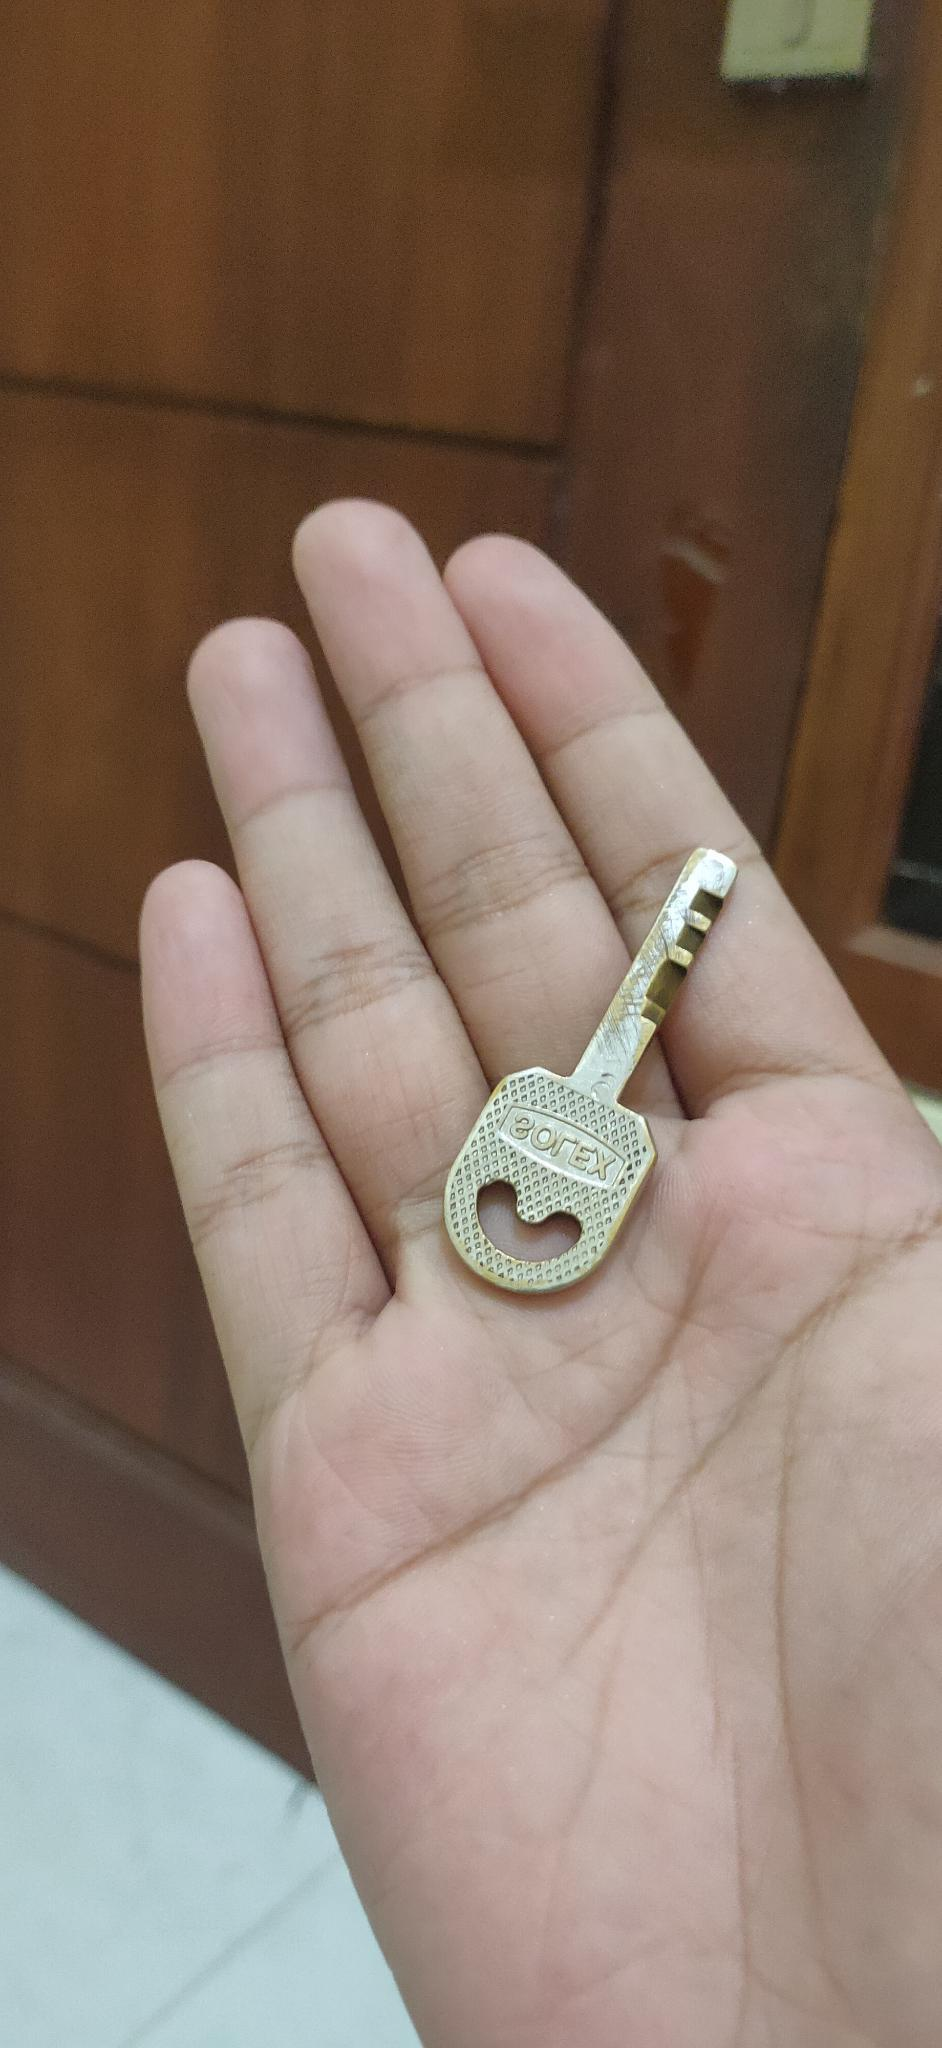keys: (415, 822, 751, 1306)
